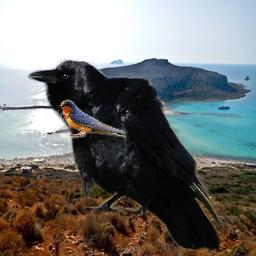Crow: (27, 59, 225, 254)
Swallow: (58, 99, 126, 140)
